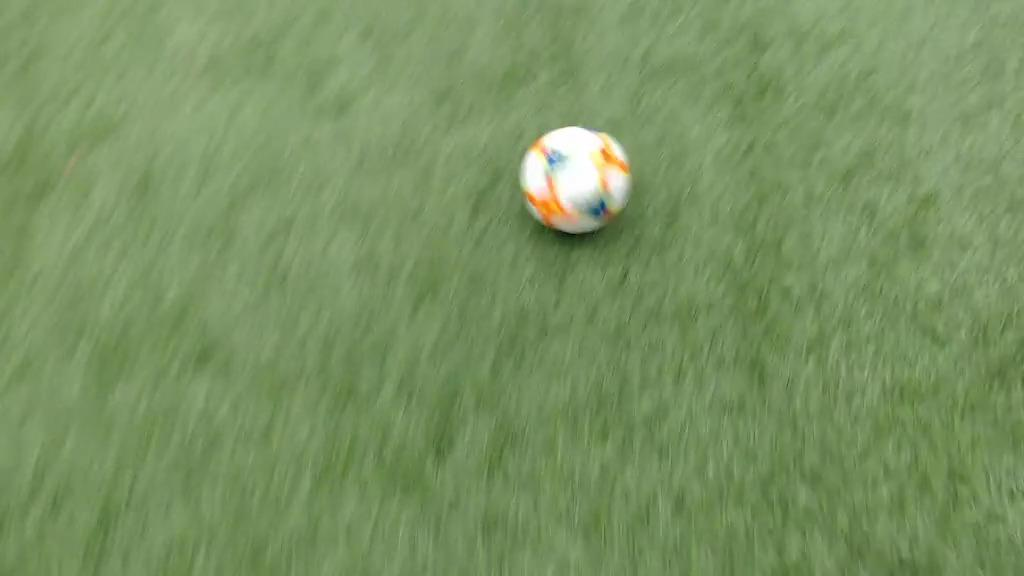ball: (523, 124, 630, 237)
